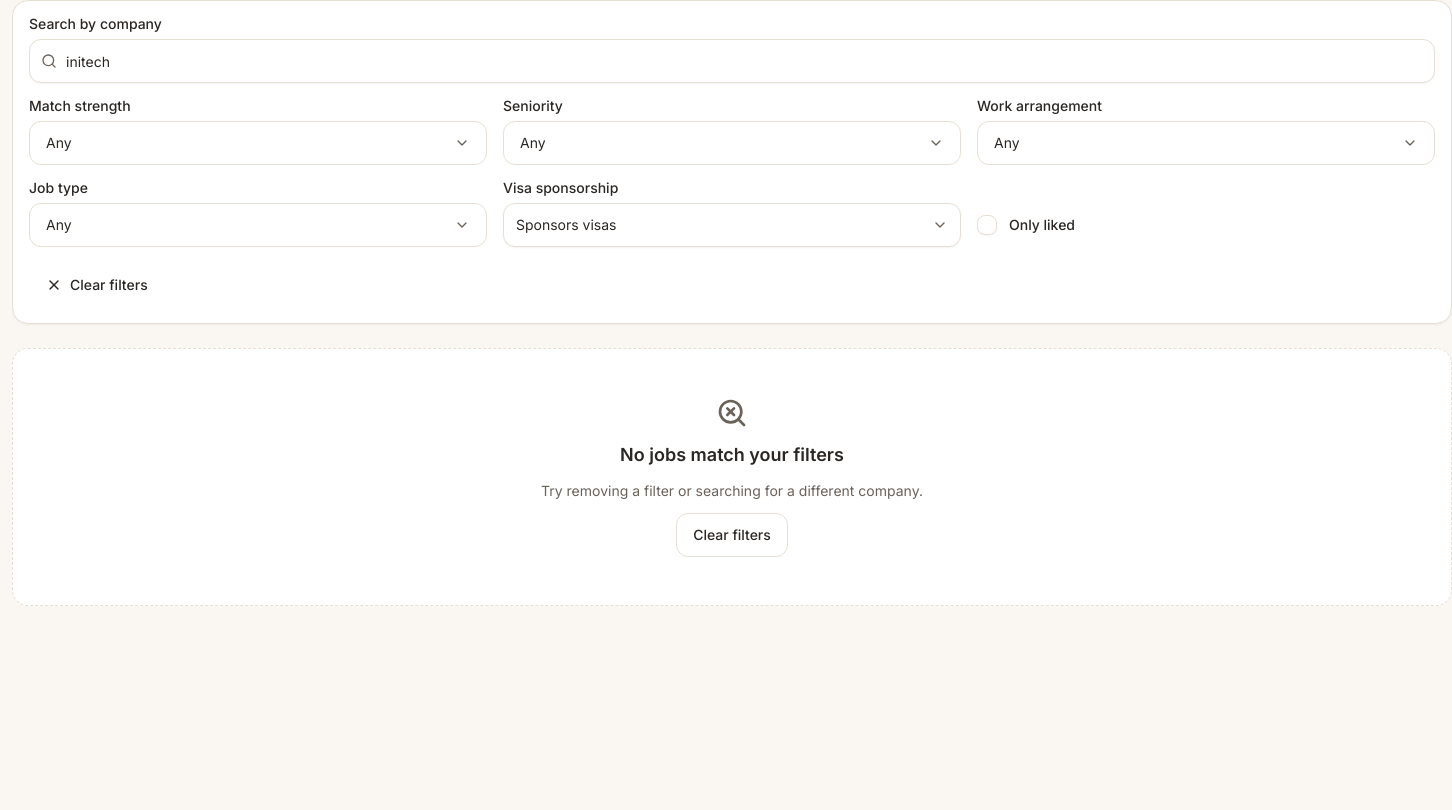
Test case: JobList › shows the no-match state when filters exclude every job
Check: the heading "No jobs match your filters" is shown, box [620,441,844,469]
Check: the search field labelled "Search by company" holds "initech", box [29,39,1435,83]
Click the button "Clear filters" below "Job type" at (97,285), box [29,263,165,307]
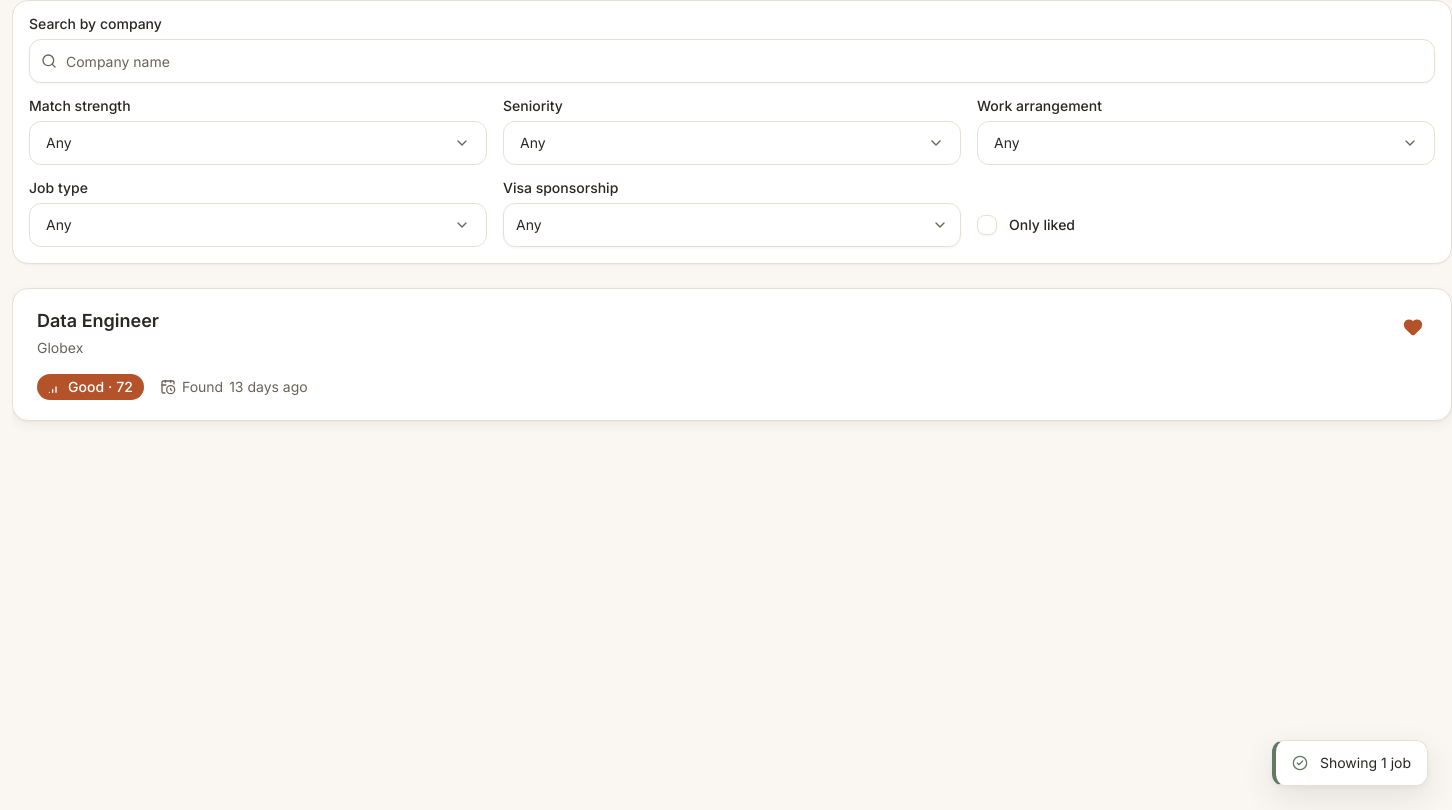
Check: the link "Data Engineer" is shown, box [37,310,159,331]
Check: the search field labelled "Search by company" is empty, box [29,39,1435,83]
